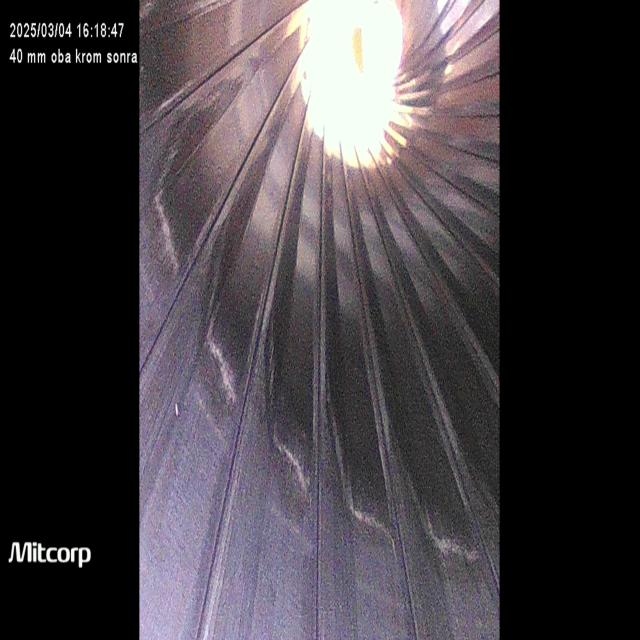hata_9.3: (186, 307, 502, 604)
